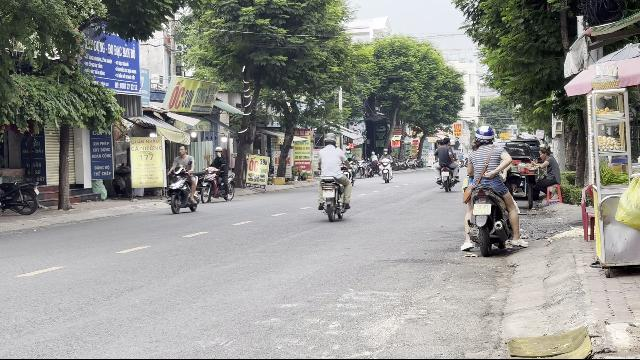helmet: (474, 126, 494, 146)
licenseplate: (474, 204, 491, 214)
motorcyclist: (458, 124, 522, 256)
